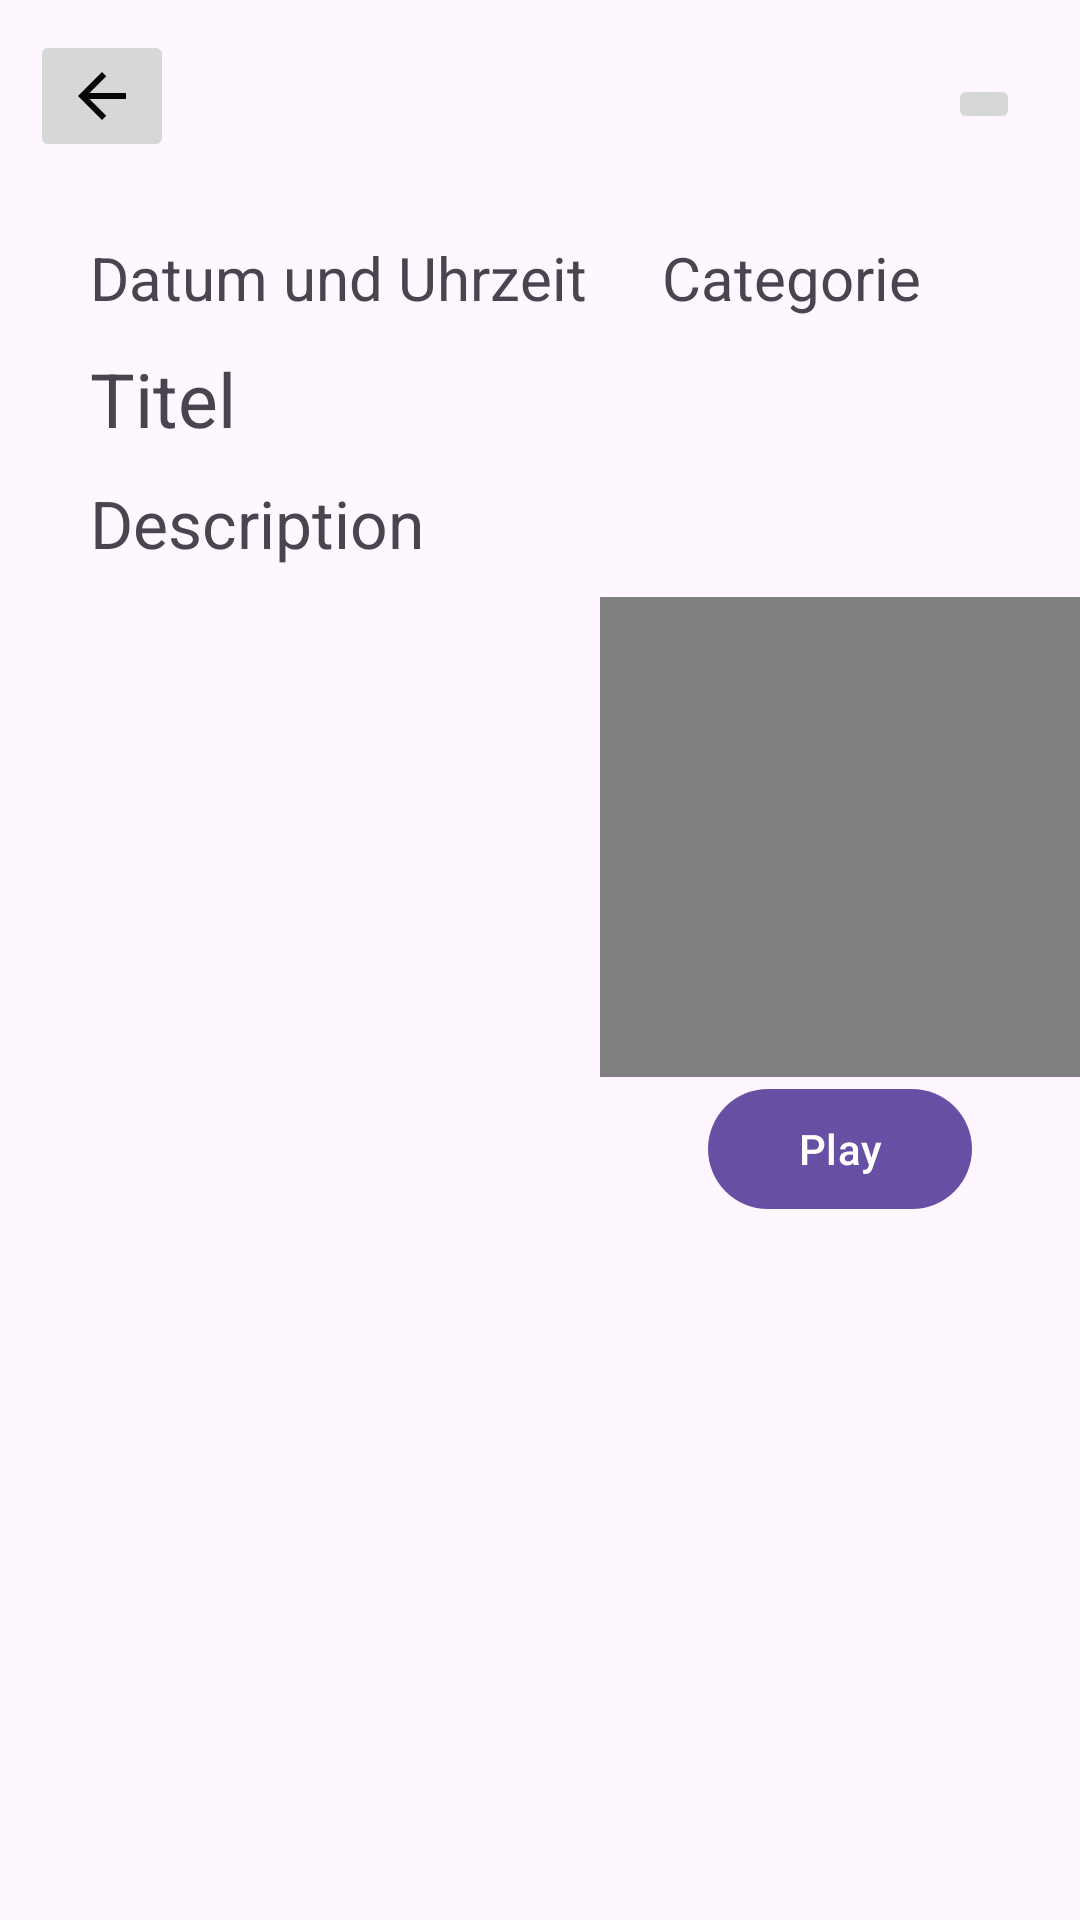

Icon bounding boxes for this 1080*1920 phone screenshot, format [left=x1, top=y1, right=x2, bottom=y2]:
back: [left=42, top=48, right=162, bottom=144]
